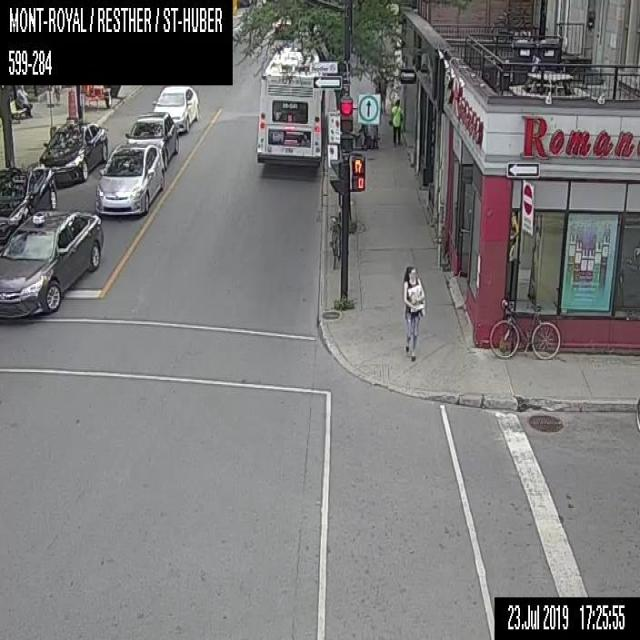bus: (256, 46, 326, 166)
construction: (67, 88, 75, 116)
pedestrian: (402, 264, 425, 360), (388, 98, 402, 146), (15, 84, 32, 117), (380, 72, 388, 113), (372, 73, 379, 93)
vehicle: (0, 210, 103, 318), (95, 142, 163, 215), (0, 164, 56, 247), (39, 121, 108, 183), (124, 111, 179, 169), (152, 84, 198, 133)
